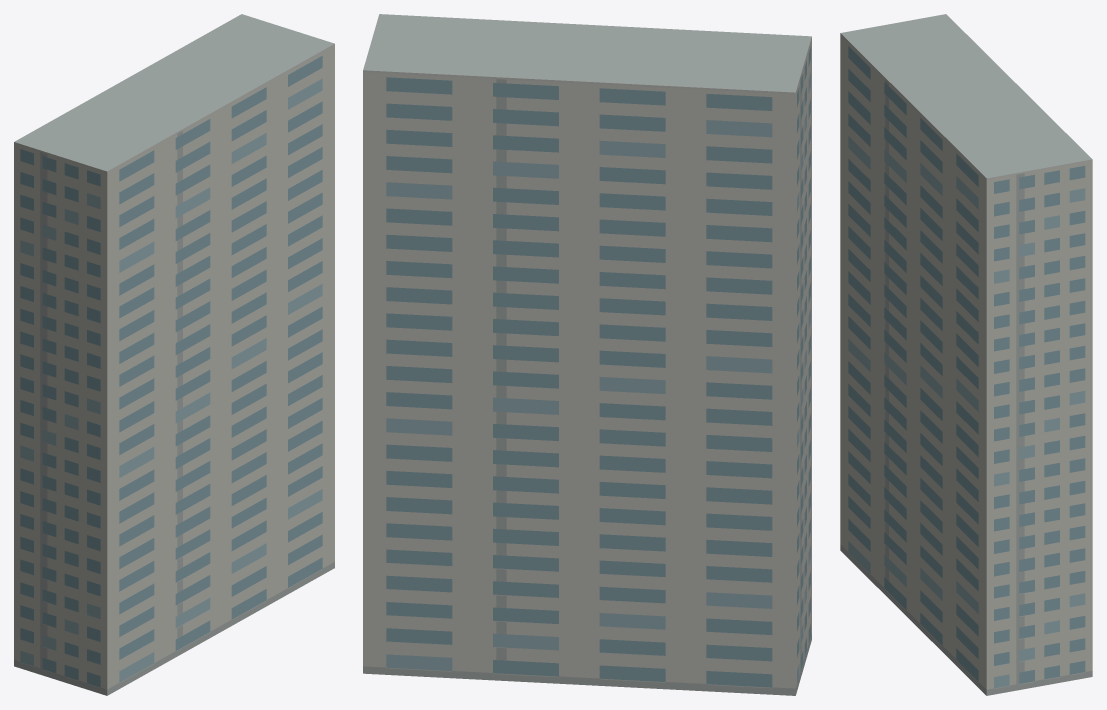
File: residential-776348d5-98d2-43d4-a442-b3bc3fc31a72.glb
3 views of the same model, side by side, from view 1: azimuth 30°, elevation 25°; view 2: azimuth 150°, elevation 25°; view 3: azimuth 270°, elevation 25° (orthographic). The views are drawn at different scales.
Visible parts, largest first — view 1: residential-776348d5-98d2-43d4-a442-b3bc3fc31a72.tmp; view 2: residential-776348d5-98d2-43d4-a442-b3bc3fc31a72.tmp; view 3: residential-776348d5-98d2-43d4-a442-b3bc3fc31a72.tmp.
Part boxes in pixels (bbox=[...]): residential-776348d5-98d2-43d4-a442-b3bc3fc31a72.tmp: bbox=[14, 14, 334, 695]; residential-776348d5-98d2-43d4-a442-b3bc3fc31a72.tmp: bbox=[363, 14, 811, 695]; residential-776348d5-98d2-43d4-a442-b3bc3fc31a72.tmp: bbox=[840, 14, 1092, 695].
Size of the model in its own units: 51.79 by 76 by 33.57.
